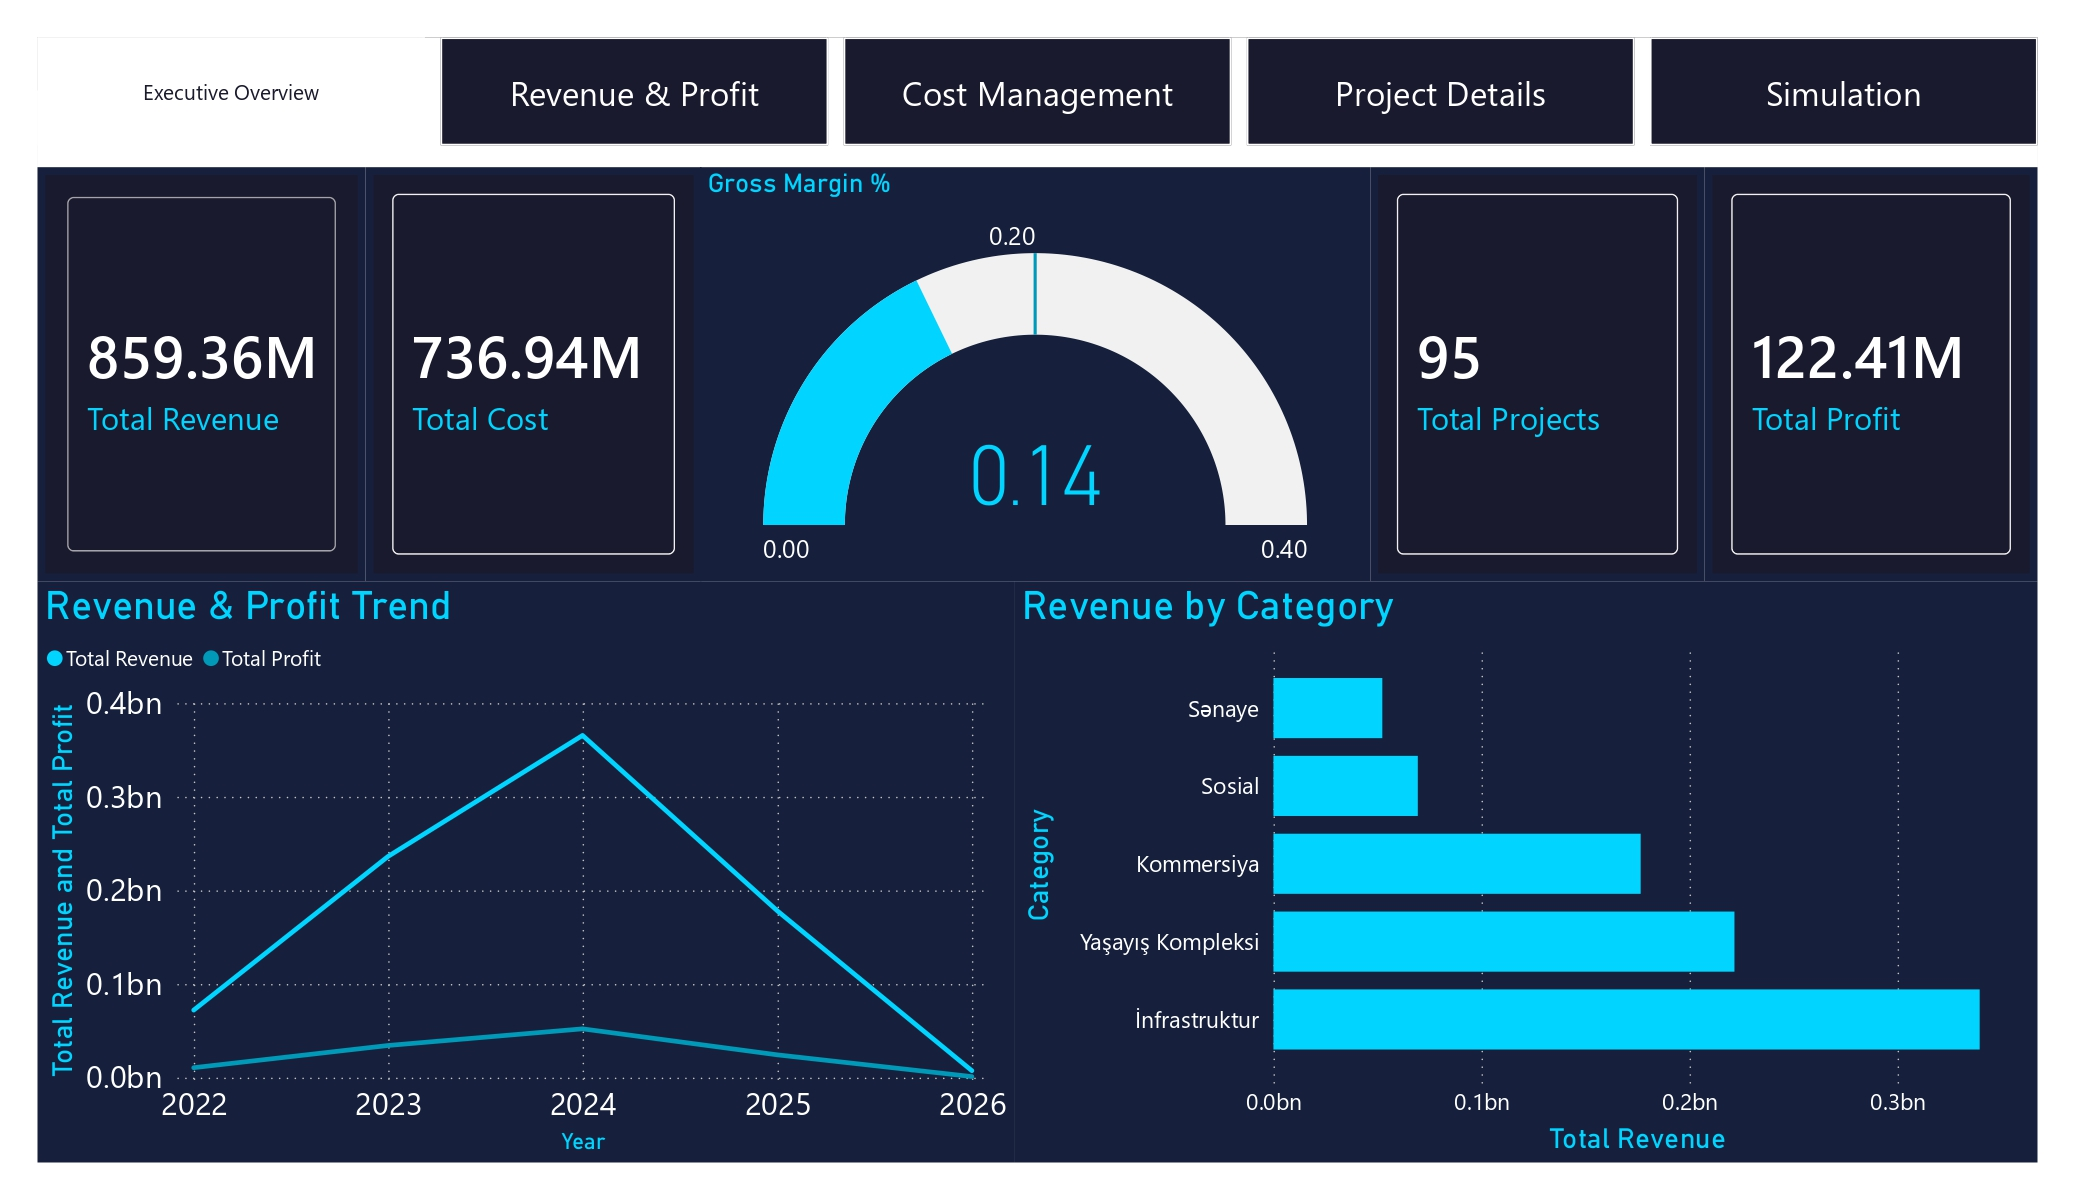

The dashboard page shown, as its layout file describes it:
{"tool":"powerbi","page":{"name":"Executive Overview","canvas":[1280,720],"ordinal":0},"visuals":[{"type":"pageNavigator","box":[0,0,1280,68.9],"z":0},{"type":"cardVisual","fields":{"Data":["_Measures.Total Revenue"]},"box":[0,83.3,210,265],"z":1000},{"type":"cardVisual","fields":{"Data":["_Measures.Total Projects"]},"box":[853.3,83.3,213.3,265],"z":2000},{"type":"cardVisual","fields":{"Data":["_Measures.Total Cost"]},"box":[210,83.3,215,265],"z":3000},{"type":"cardVisual","fields":{"Data":["_Measures.Total Profit"]},"box":[1066.7,83.3,213.3,265],"z":4000},{"type":"lineChart","title":"Revenue & Profit Trend","fields":{"Y":["_Measures.Total Revenue","_Measures.Total Profit"],"Category":["fact_financials.Date.Variation.Date Hierarchy.Year"]},"box":[0,348.3,624.9,371.7],"z":5000},{"type":"clusteredBarChart","title":"Revenue by Category","fields":{"Category":["dim_projects_v2.Category"],"Y":["_Measures.Total Revenue"]},"box":[624.9,348.3,655.6,371.7],"z":6000},{"type":"gauge","fields":{"Y":["_Measures.Gross Margin %"]},"box":[424.4,83.4,428.8,264.9],"z":7000}]}

Visuals, with their boxes on the page's 1280x720 design canvas (x1, y1, x2, y2). These are canvas units, not pixel positions in the 2075x1200 screenshot, which may show the page scaled, cropped or inside an application window:
pageNavigator: 0,0,1280,69
cardVisual - _Measures.Total Revenue: 0,83,210,348
cardVisual - _Measures.Total Projects: 853,83,1067,348
cardVisual - _Measures.Total Cost: 210,83,425,348
cardVisual - _Measures.Total Profit: 1067,83,1280,348
"Revenue & Profit Trend" lineChart: 0,348,625,720
"Revenue by Category" clusteredBarChart: 625,348,1280,720
gauge - _Measures.Gross Margin %: 424,83,853,348
